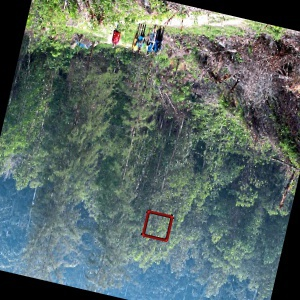square: (139, 207, 175, 245)
